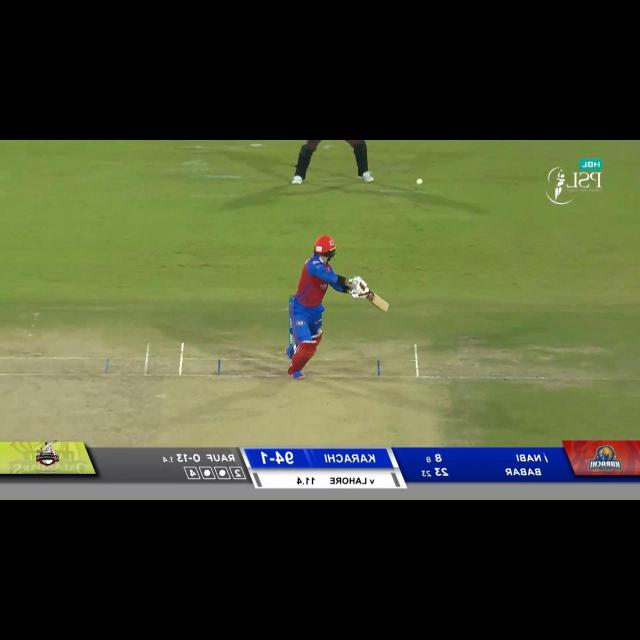bat: (363, 290, 392, 314)
toe: (382, 300, 390, 313)
